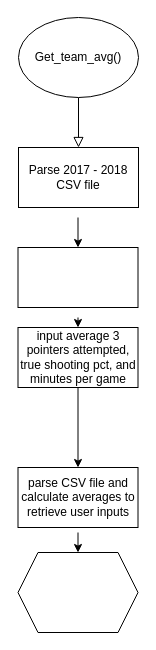
The diagram is 156 pixels wide and 650 high, and some of its shapes have lost their labels. The shapes that lost their labels are listed below. From the top down, each one's centre as x and y in pixels, then its label:
At (77,277): "input welcome to get avg team info".
At (77,592): "STOP".
